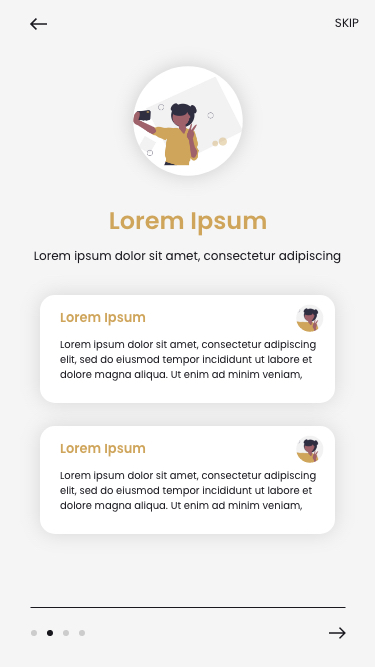Card: (41, 295, 337, 405), (40, 426, 336, 535)
Icon: (31, 18, 48, 31), (329, 626, 346, 639)
Image: (133, 67, 244, 177), (296, 305, 324, 333), (296, 436, 324, 464)
PageIndicator: (31, 629, 87, 637)
Text: (60, 470, 317, 513), (60, 340, 317, 382), (34, 251, 341, 264), (110, 212, 267, 237), (58, 440, 146, 457), (61, 313, 146, 327), (334, 18, 360, 29)
